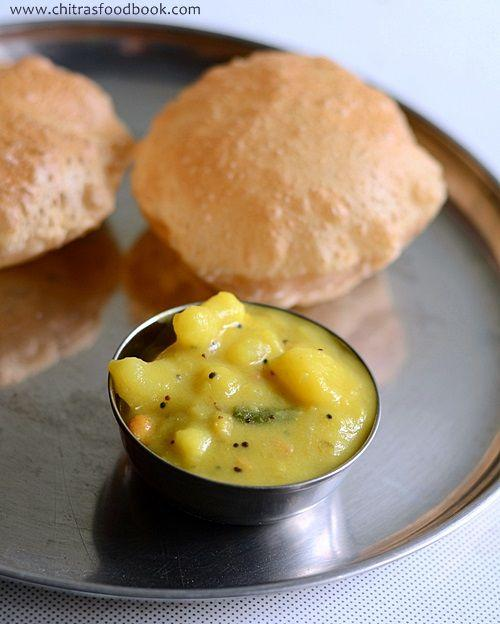puri: (5, 37, 500, 288)
